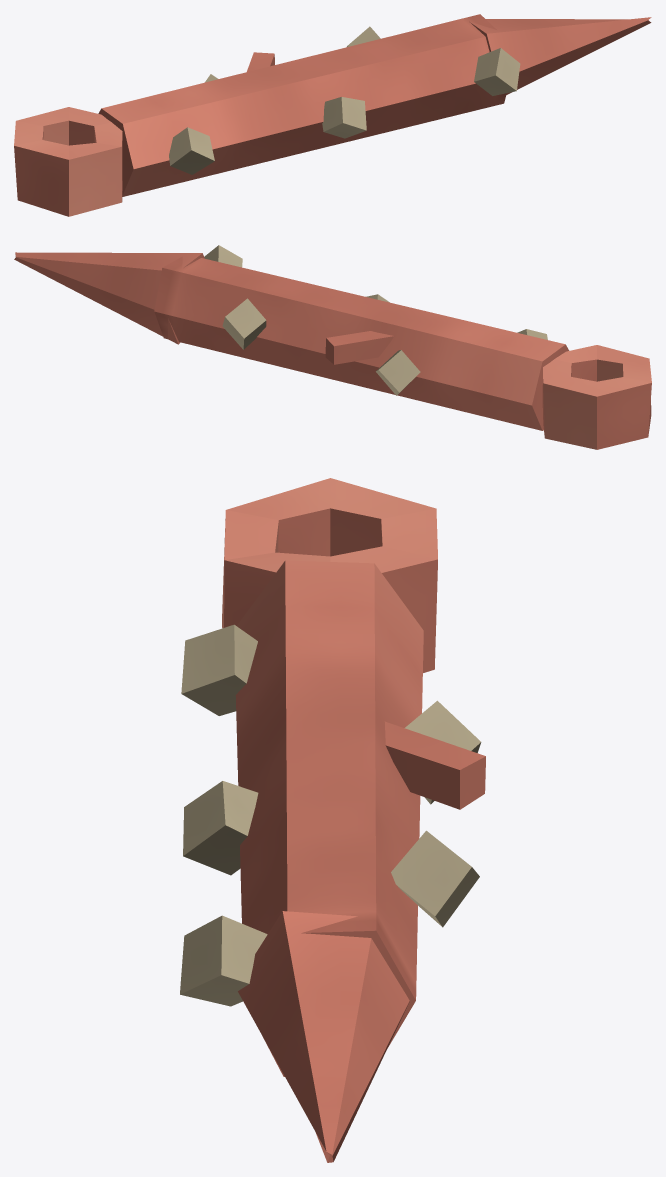
Rendered from needle_coral.glb.
3 views of the same model, one above another, from view 1: azimuth 30°, elevation 25°; view 2: azimuth 150°, elevation 25°; view 3: azimuth 270°, elevation 25° (orthographic). The views are drawn at different scales.
Parts seen in each view (by area): view 1: NeedleCoral; view 2: NeedleCoral; view 3: NeedleCoral.
Boxes of the visible parts, x1=… form: NeedleCoral: x1=14, y1=14, x2=651, y2=216; NeedleCoral: x1=14, y1=245, x2=651, y2=449; NeedleCoral: x1=180, y1=478, x2=485, y2=1162.
Bounding box in the file's own units: 0.3375 × 0.0382 × 0.0703.
Materials: 2 (2 with a texture image).
